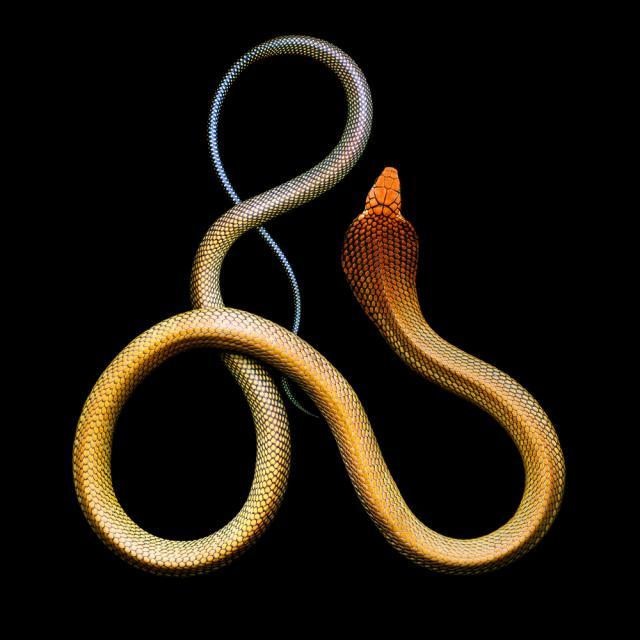Snake: (68, 18, 572, 566)
